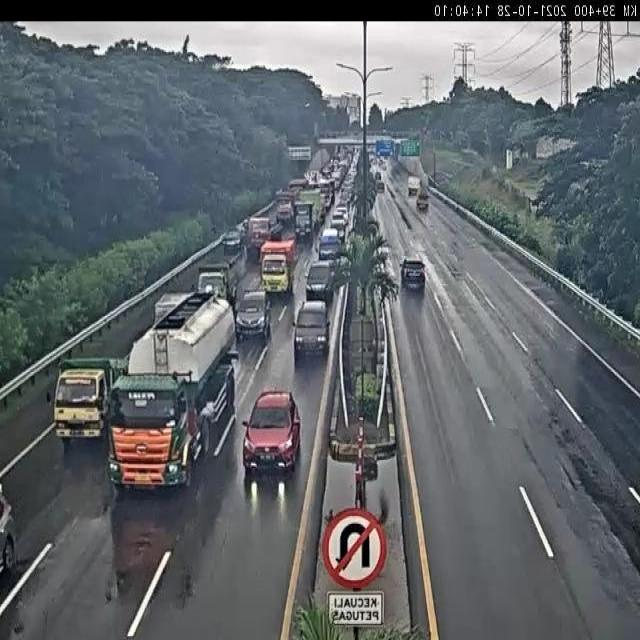Car: (226, 378, 314, 500), (234, 288, 273, 343), (0, 485, 18, 582), (305, 260, 341, 304), (400, 258, 426, 291)
Truck: (109, 289, 239, 489), (109, 484, 188, 608), (53, 357, 122, 444), (196, 260, 242, 312), (334, 271, 355, 384), (292, 299, 329, 359), (259, 239, 296, 298), (350, 462, 378, 514), (155, 292, 195, 328), (430, 182, 470, 215), (246, 216, 273, 258), (293, 199, 315, 241), (374, 314, 386, 381), (274, 190, 298, 223), (221, 227, 244, 259), (370, 437, 396, 465), (318, 228, 341, 259), (268, 202, 289, 234), (357, 452, 378, 482), (300, 300, 327, 322), (110, 357, 130, 384), (530, 284, 556, 302), (336, 161, 351, 191), (316, 177, 333, 203), (314, 198, 327, 230), (282, 237, 298, 262), (333, 248, 352, 269), (364, 185, 376, 215), (319, 190, 332, 217), (237, 251, 249, 279), (343, 178, 356, 202), (288, 178, 305, 196), (305, 280, 320, 300), (416, 190, 430, 211), (370, 160, 382, 184), (376, 245, 390, 265), (334, 205, 348, 225), (341, 150, 353, 173), (330, 169, 343, 190), (366, 216, 379, 237), (370, 139, 384, 158), (407, 176, 420, 196), (529, 193, 544, 209), (226, 349, 240, 366), (436, 170, 454, 183), (460, 148, 480, 159), (354, 141, 372, 153), (306, 170, 320, 185), (321, 165, 333, 182), (300, 177, 314, 191), (240, 218, 249, 238), (337, 223, 347, 241), (276, 189, 288, 203), (378, 137, 393, 147), (580, 160, 596, 169), (421, 126, 431, 140), (0, 482, 6, 505), (325, 130, 342, 138), (367, 144, 376, 159), (369, 152, 378, 167), (394, 140, 401, 158), (506, 149, 512, 170), (319, 130, 332, 139), (313, 121, 319, 140), (388, 184, 396, 198), (427, 174, 436, 186), (204, 284, 213, 295), (513, 155, 521, 167), (312, 134, 320, 146), (379, 129, 391, 136), (380, 159, 388, 169), (521, 151, 529, 160), (469, 239, 477, 248), (451, 240, 458, 250), (211, 226, 217, 234)
